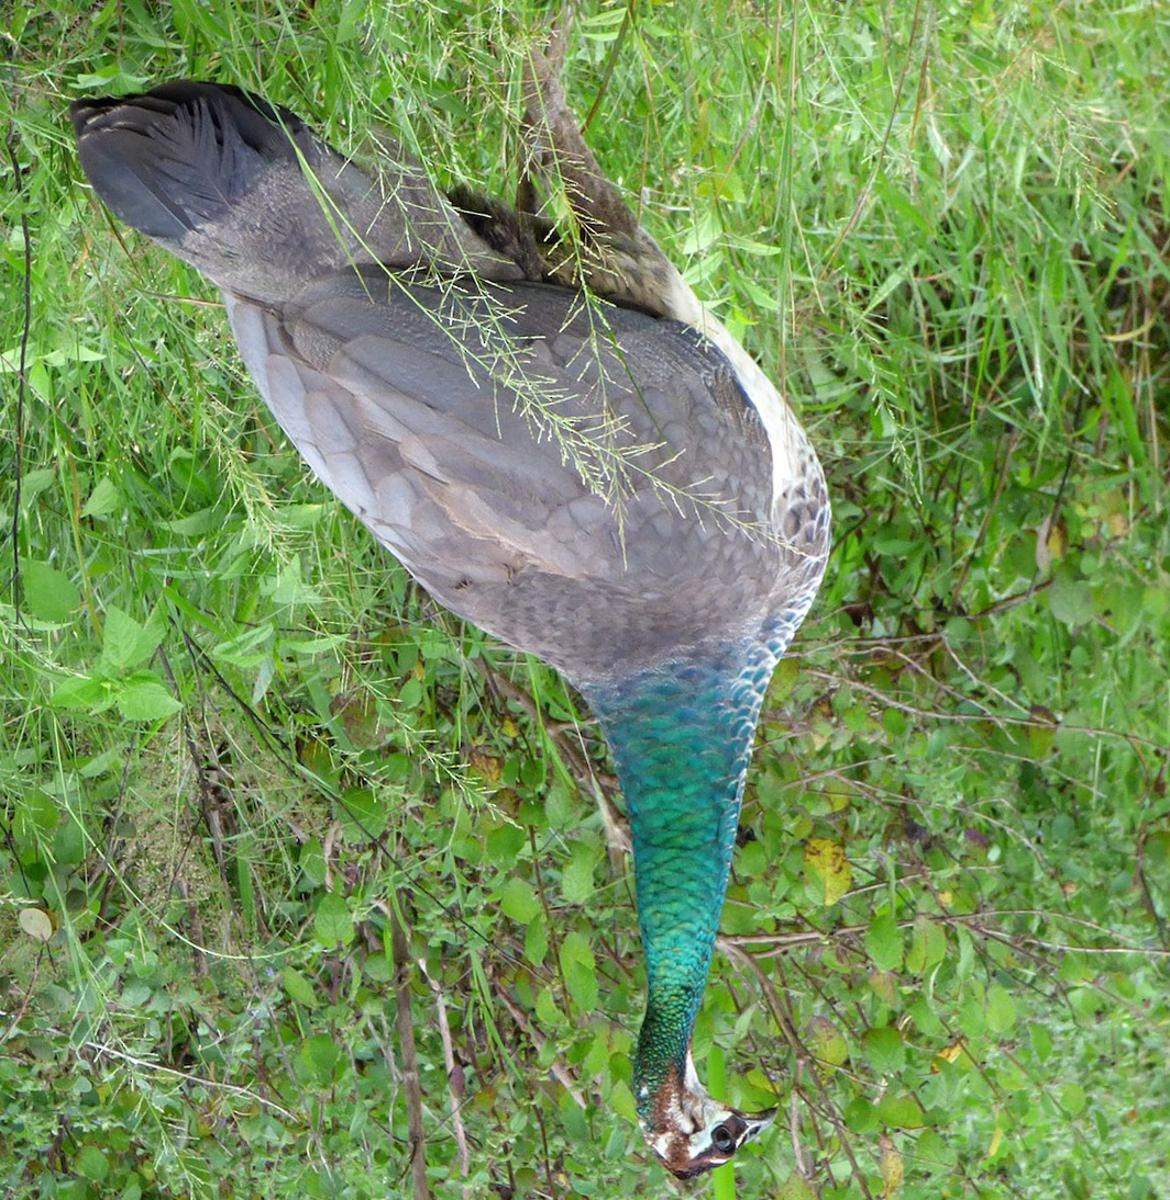peacock: (232, 121, 787, 1176)
